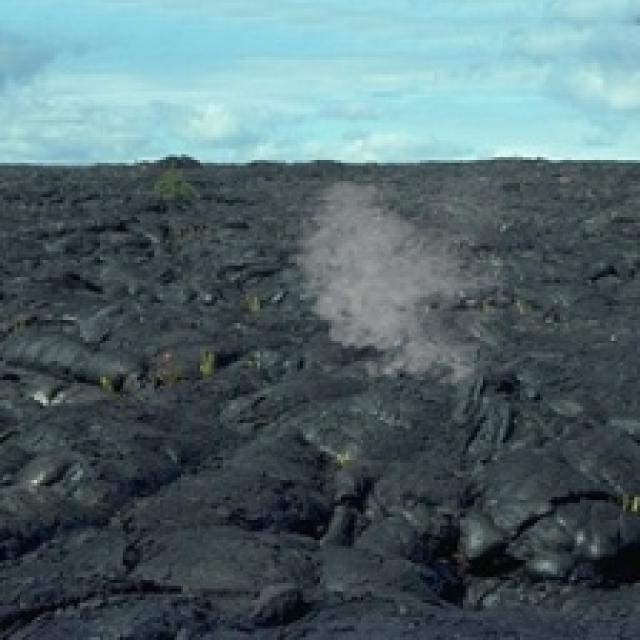smoke: (280, 175, 503, 392)
